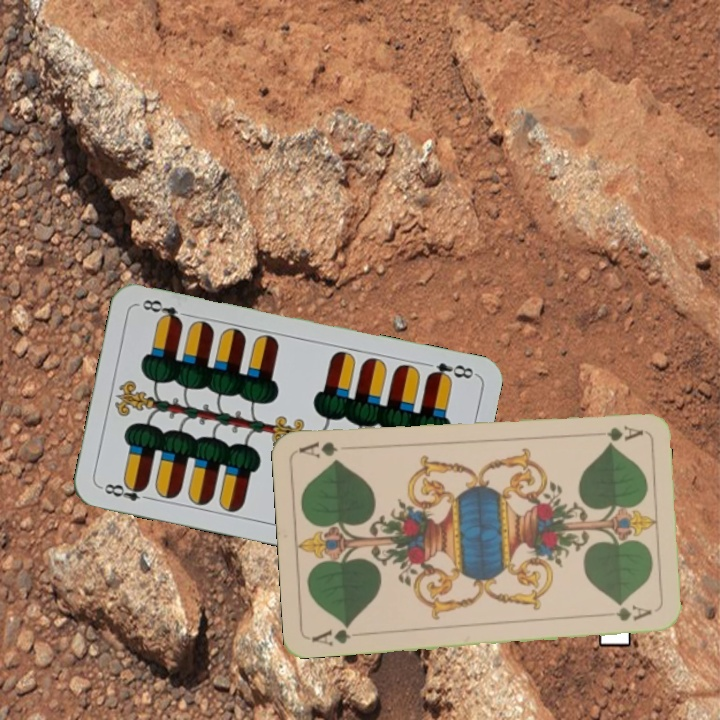E8: (97, 477, 155, 504), (423, 358, 478, 384)
GA: (585, 422, 645, 444), (308, 620, 354, 648)
